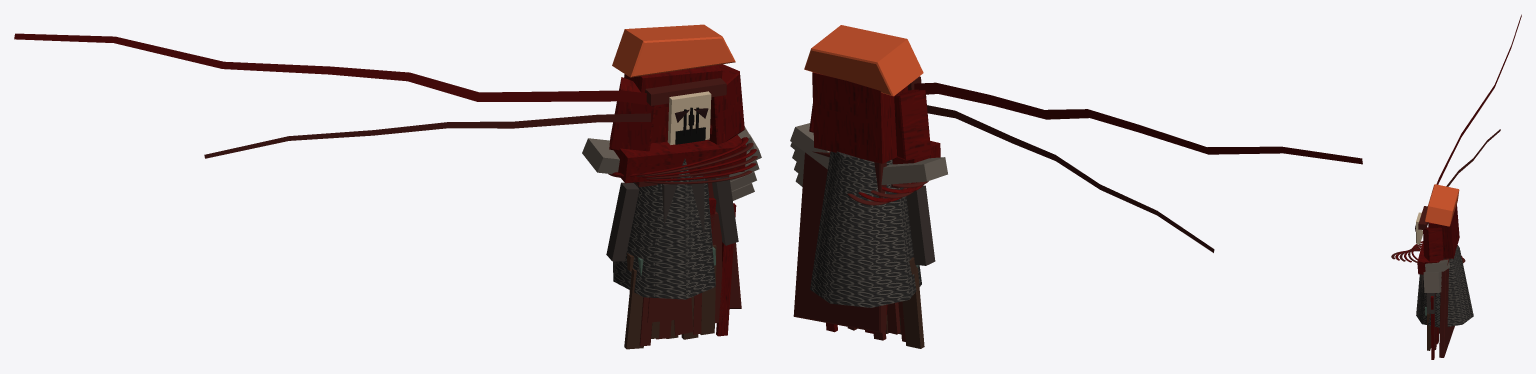
File: red-hood-colossus-v2.glb
3 views of the same model, side by side, from view 1: azimuth 30°, elevation 25°; view 2: azimuth 150°, elevation 25°; view 3: azimuth 270°, elevation 25° (orthographic). The views are drawn at different scales.
Visible parts, largest first — view 1: chainmail torso, upper long red scarf streamer, red peaked hood top, red scarf cowl wrap, lower long red scarf streamer, ragged hanging armor cloth (×3), right angled cheek hood, left angled cheek hood, red squared hood back, ragged red cloak strip (×2), left dark arm, square skull mask (+6 smaller); view 2: chainmail torso, red squared hood back, red peaked hood top, dark red cloak silhouette, upper long red scarf streamer, left angled cheek hood, lower long red scarf streamer, left dark arm, left sloped shoulder plate, ragged hanging armor cloth, right sloped shoulder plate; view 3: chainmail torso, red peaked hood top, dark red cloak silhouette, red squared hood back, right angled cheek hood, upper long red scarf streamer, right sloped shoulder plate, ragged red cloak strip, red scarf cowl wrap, lower long red scarf streamer, right dark arm, deep hood brow fold (+2 smaller).
Part boxes in pixels (x1,y1,x2,y2): chainmail torso: [613, 158, 715, 299]; upper long red scarf streamer: [14, 33, 663, 106]; red peaked hood top: [612, 24, 735, 77]; red scarf cowl wrap: [614, 135, 746, 183]; lower long red scarf streamer: [204, 113, 650, 158]; ragged hanging armor cloth (×3): [624, 259, 716, 349]; right angled cheek hood: [708, 64, 744, 144]; left angled cheek hood: [609, 77, 656, 151]; red squared hood back: [624, 65, 722, 143]; ragged red cloak strip (×2): [710, 203, 736, 336]; left dark arm: [606, 182, 639, 261]; square skull mask: [667, 91, 711, 144]; chainmail torso: [810, 151, 921, 307]; red squared hood back: [812, 72, 907, 163]; red peaked hood top: [804, 25, 923, 96]; dark red cloak silhouette: [793, 151, 886, 332]; upper long red scarf streamer: [914, 82, 1362, 164]; left angled cheek hood: [894, 89, 931, 160]; lower long red scarf streamer: [927, 105, 1214, 252]; left dark arm: [906, 185, 935, 265]; left sloped shoulder plate: [881, 157, 947, 184]; ragged hanging armor cloth: [902, 267, 924, 348]; right sloped shoulder plate: [790, 123, 829, 169]; chainmail torso: [1416, 245, 1473, 327]; red peaked hood top: [1425, 184, 1459, 226]; dark red cloak silhouette: [1439, 258, 1454, 357]; red squared hood back: [1429, 204, 1459, 258]; right angled cheek hood: [1423, 227, 1443, 261]; upper long red scarf streamer: [1436, 14, 1521, 184]; right sloped shoulder plate: [1425, 259, 1449, 272]; ragged red cloak strip: [1430, 296, 1434, 359]; red scarf cowl wrap: [1417, 241, 1439, 274]; lower long red scarf streamer: [1446, 129, 1500, 186]; right dark arm: [1426, 293, 1435, 313]; deep hood brow fold: [1418, 206, 1428, 229].
Bounding box in the file's own units: 8.56 × 4.84 × 2.94.
Materials: 11 (2 with a texture image).
